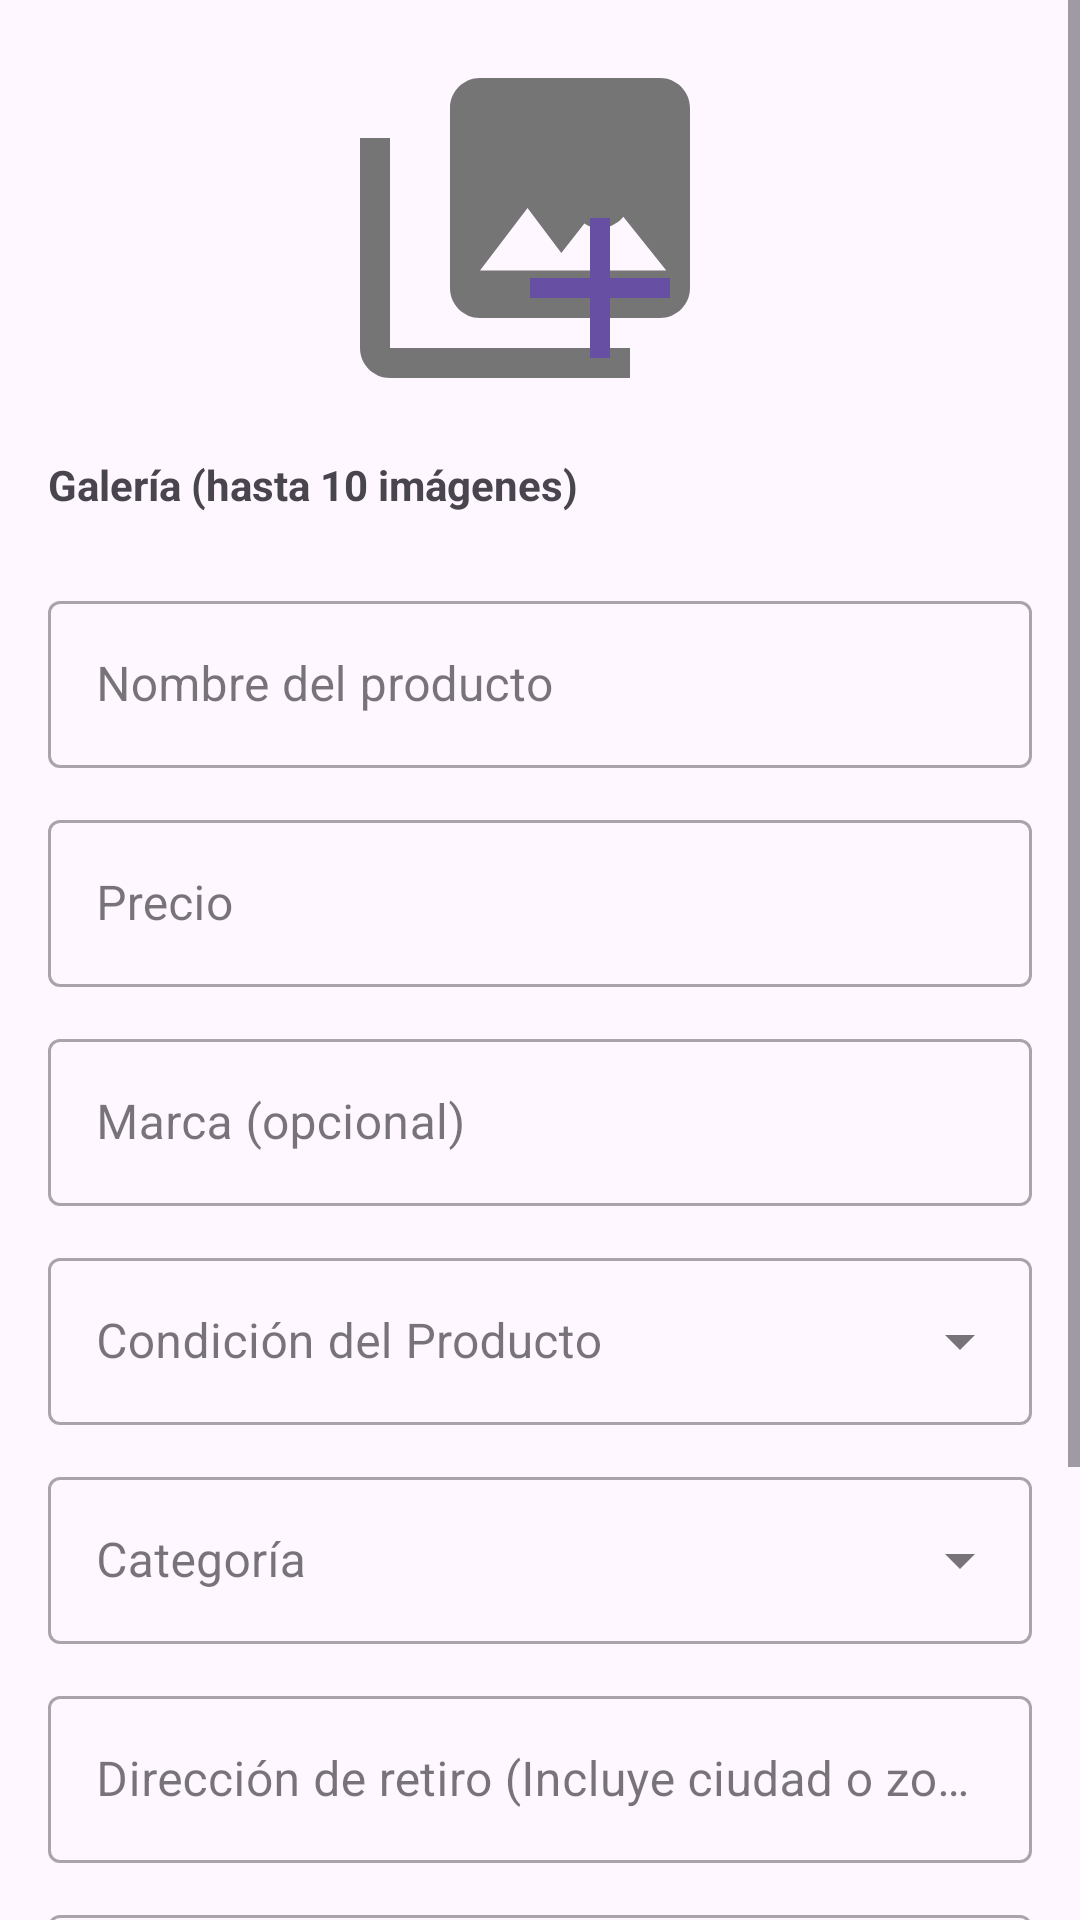

Icons on this 1080px x 1920px Android screen, each with the point to tap as point (x, y):
Añadir imagen principal: point (525, 228)
